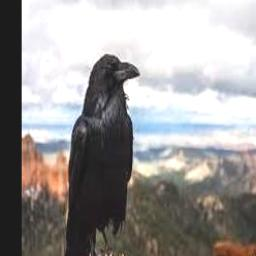Crow: (63, 53, 140, 256)
